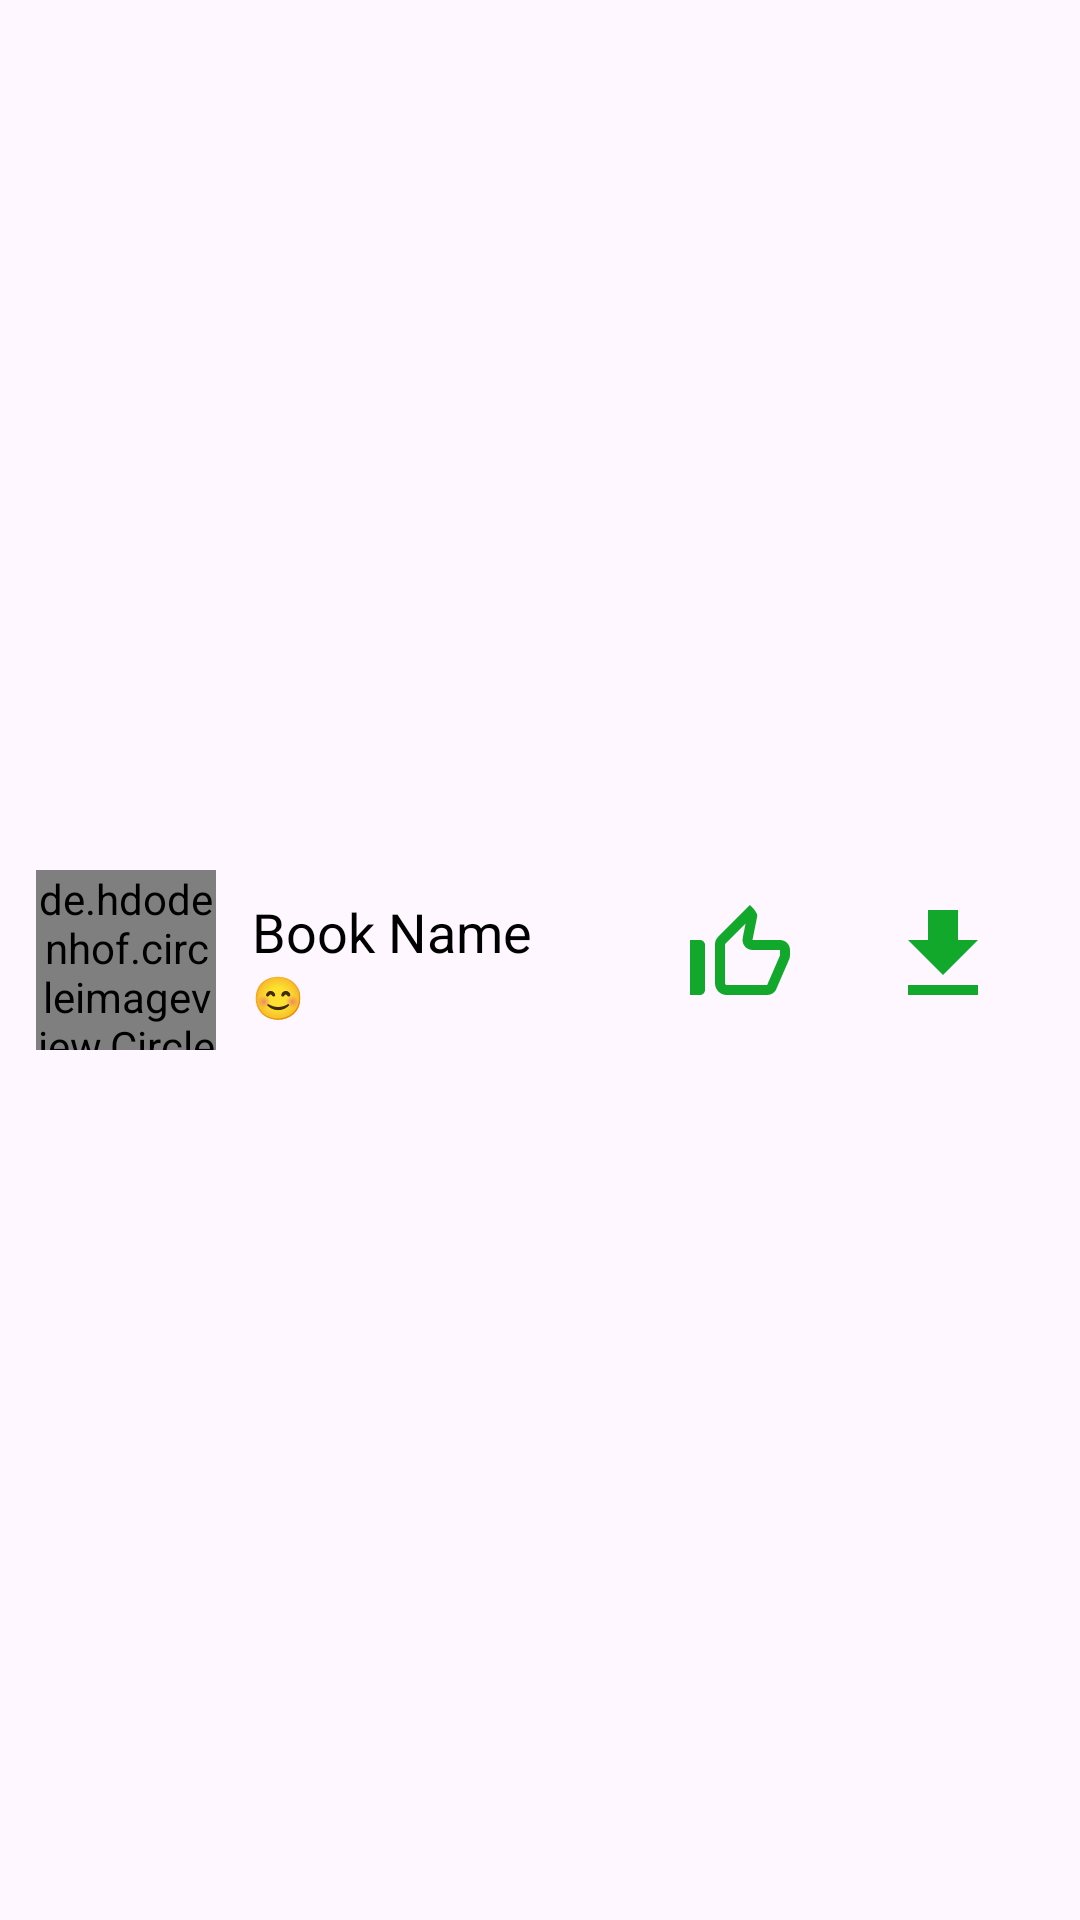

Icons on this 1080*1920 Android screen, each with its box as (x1, y1, x2, y2):
download: (908, 910, 978, 995)
like: (690, 905, 790, 995)
